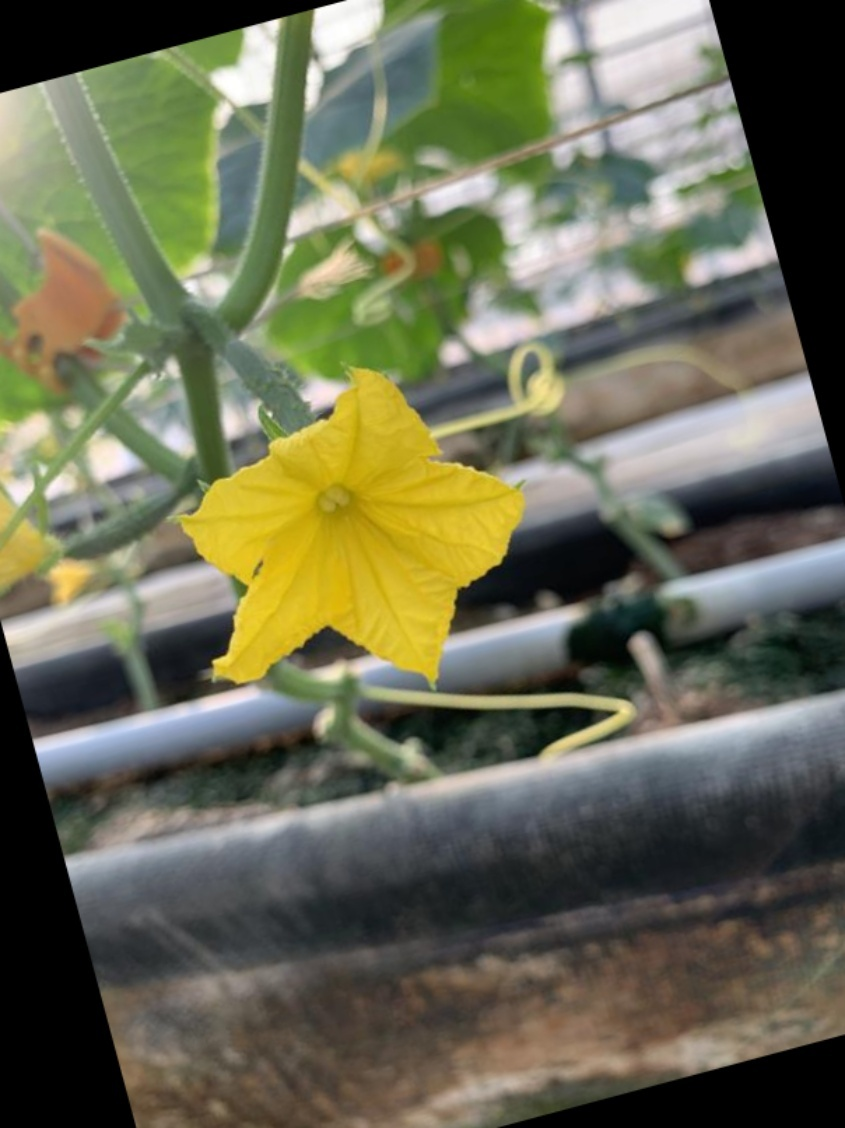flowering: (113, 326, 536, 692)
